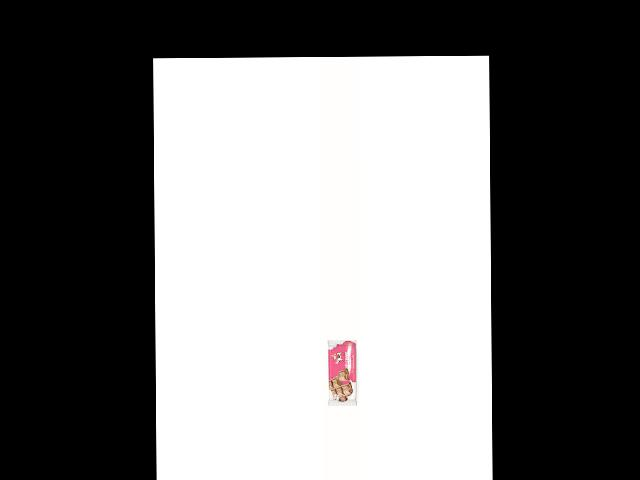chocolate: (325, 338, 362, 407)
